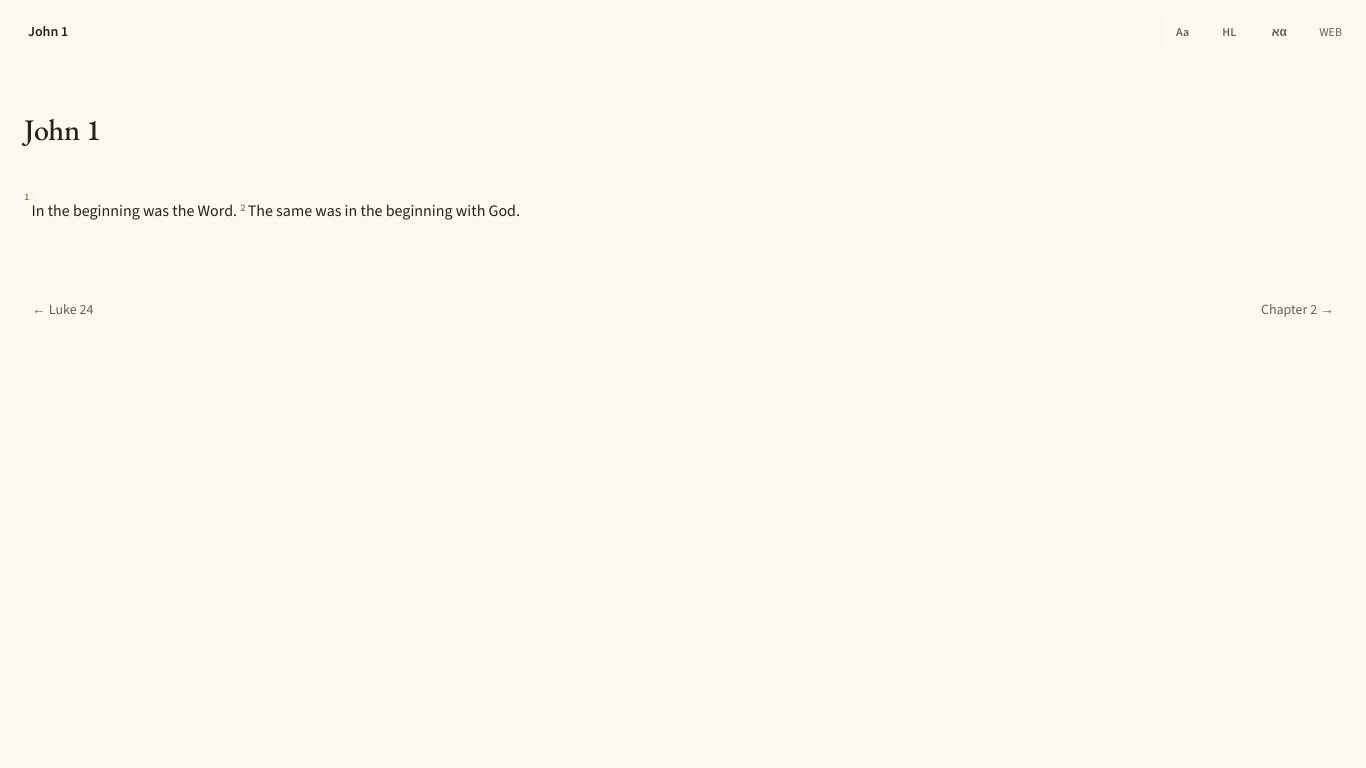
Test: A031 — opening the study dialog closes the reading-settings popover › does not reopen when the dialog closes, and Aa still works afterwards
Step 1. Click the button "Aa" → x=1183, y=32, box [1164,10,1201,54]
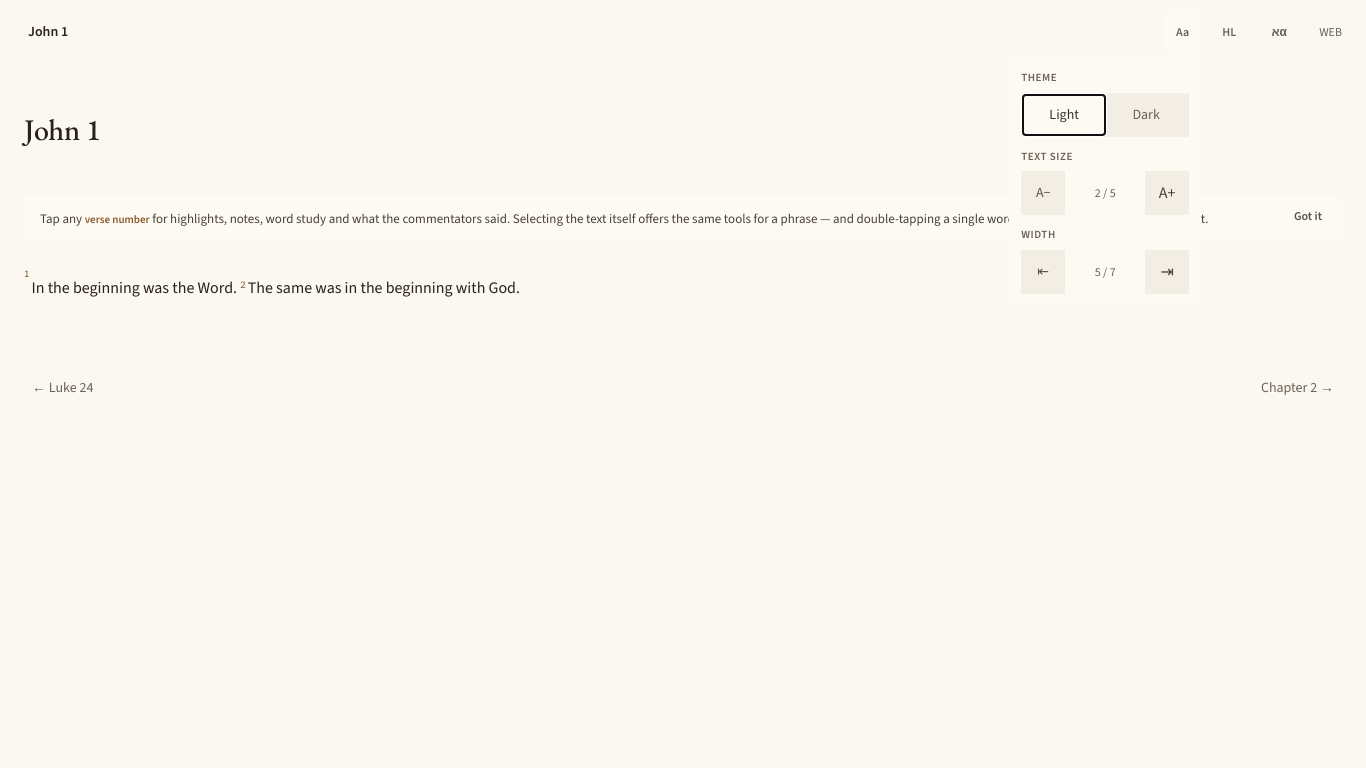
Check: the text "Text size" is shown, box [1021,148,1073,164]
Step 2. Press Enter in the button named "Verse 2, read commentary", box [240,277,246,292]
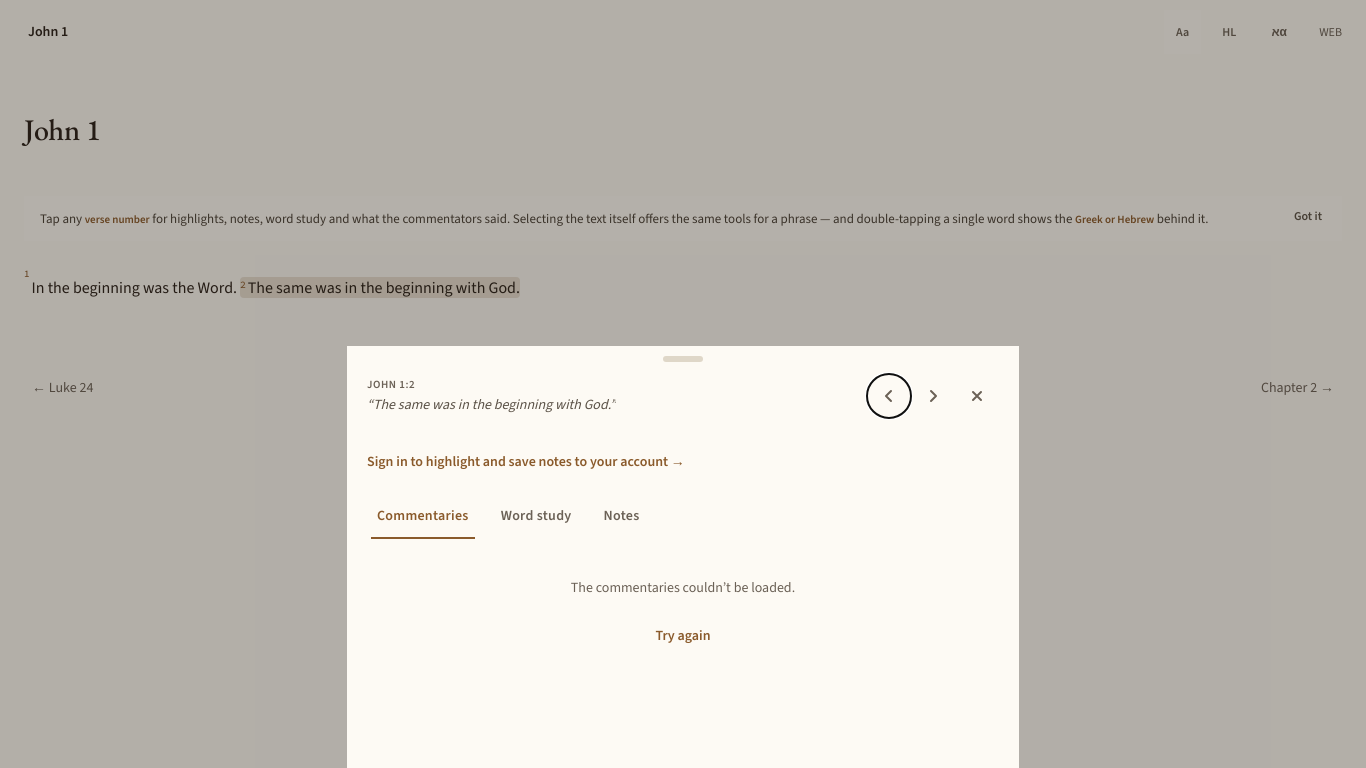
Check: the text "Text size" is gone
Step 3. Click the button named "Close" → x=977, y=396, box [955,374,999,418]
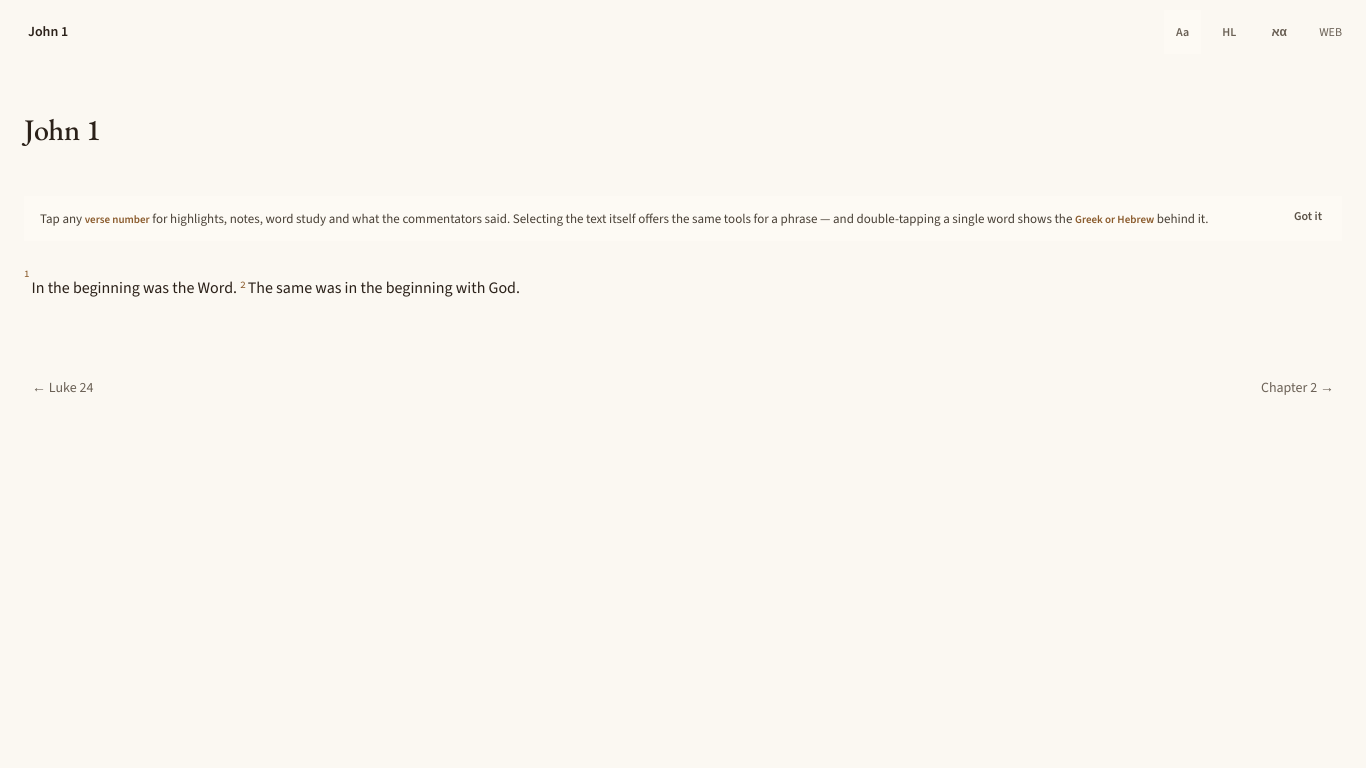
Check: the text "Text size" is not shown
Check: the dialog is gone
Step 4. Click the button "Aa" → x=1183, y=32, box [1164,10,1201,54]
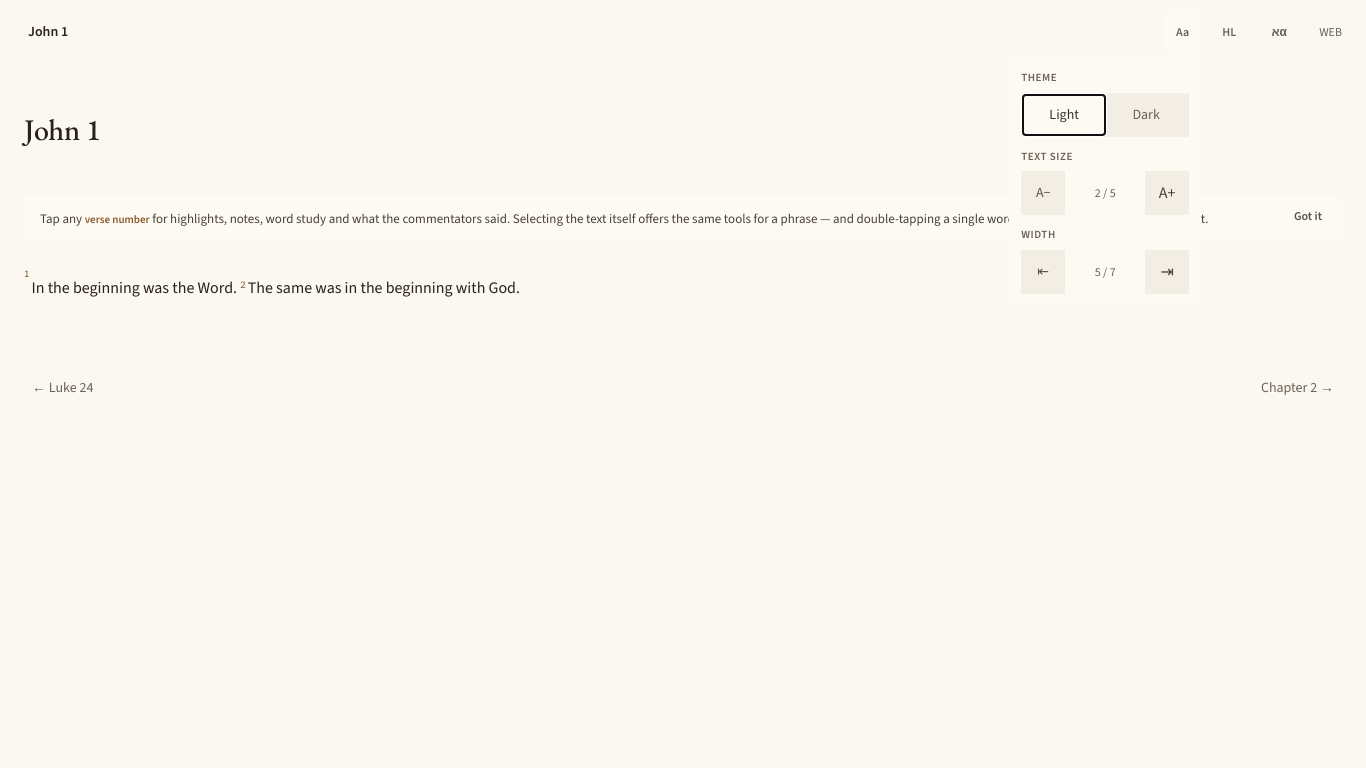
Check: the text "Text size" is shown, box [1021,148,1073,164]
